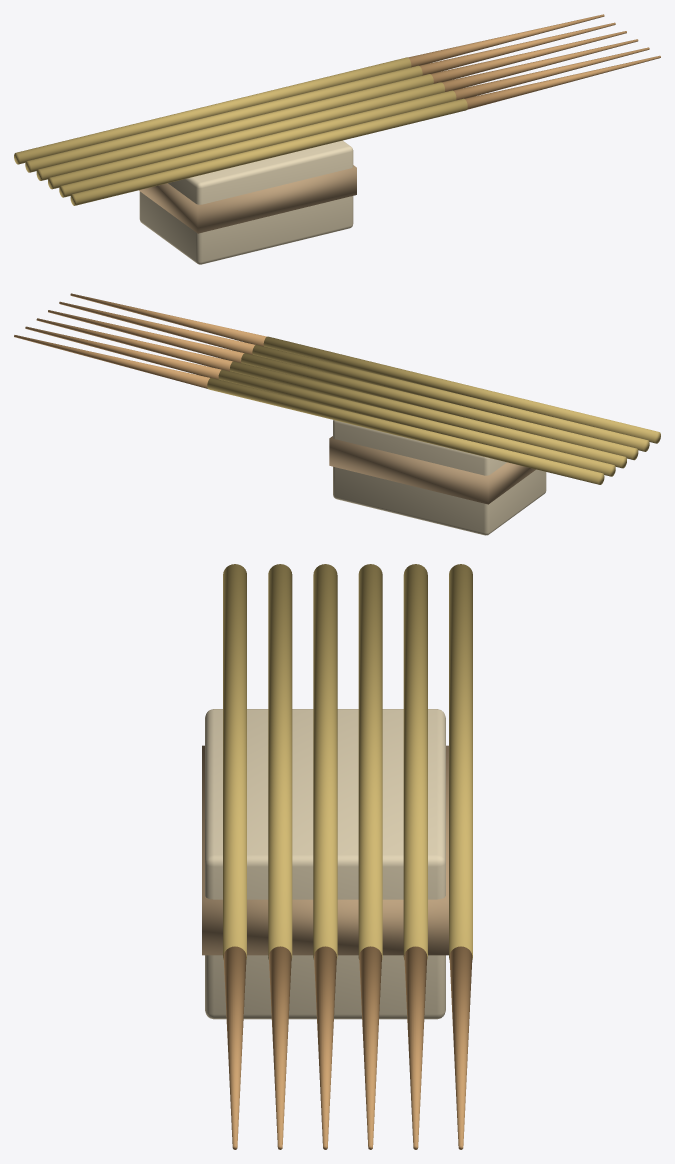
The model's file is SM_Ammo_arrow.glb.
3 views of the same model, one above another, from view 1: azimuth 30°, elevation 25°; view 2: azimuth 150°, elevation 25°; view 3: azimuth 270°, elevation 25° (orthographic). The views are drawn at different scales.
Visible parts, largest first — view 1: SM_Ammo_arrow; view 2: SM_Ammo_arrow; view 3: SM_Ammo_arrow.
Part boxes in pixels (x1=…): SM_Ammo_arrow: x1=14, y1=14, x2=660, y2=264; SM_Ammo_arrow: x1=14, y1=293, x2=660, y2=535; SM_Ammo_arrow: x1=202, y1=564, x2=472, y2=1149.
Size of the model in its own units: 0.45 by 0.07 by 0.09.
